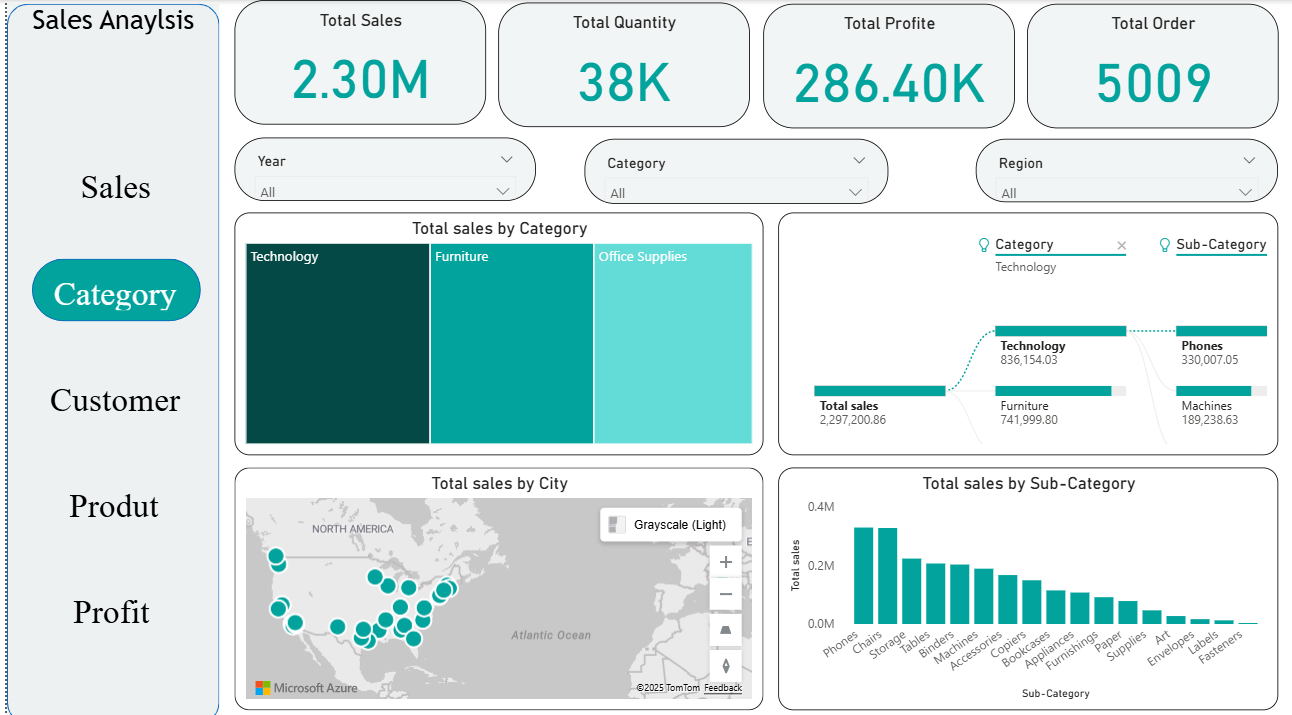

The dashboard page shown, as its layout file describes it:
{"tool":"powerbi","page":{"name":"Category","canvas":[1280,720],"ordinal":2},"visuals":[{"type":"card","title":"Total Sales","fields":{"Values":["DaxMeasure.Total sales"]},"box":[226.4,0,250,124.4],"z":0},{"type":"card","title":"Total Quantity","fields":{"Values":["DaxMeasure.Total Quantity"]},"box":[489.3,2.9,250,124.4],"z":1000},{"type":"card","title":"Total Profite","fields":{"Values":["DaxMeasure.Total Profite"]},"box":[752.2,3.7,250,124.4],"z":2000},{"type":"card","title":"Total Order","fields":{"Values":["DaxMeasure.Total Order"]},"box":[1015.1,3.7,250,124.4],"z":3000},{"type":"shape","box":[0,3.7,211.5,716.5],"z":4000},{"type":"slicer","fields":{"Values":["DateDim.Order Date.Variation.Date Hierarchy.Year"]},"box":[226.4,136.8,299.8,63.4],"z":5000},{"type":"slicer","fields":{"Values":["ProductDim.Category"]},"box":[574.7,138.1,302.3,64.7],"z":6000},{"type":"slicer","fields":{"Values":["CustomerDim.Region"]},"box":[964.1,138.1,301,63.4],"z":7000},{"type":"shape","box":[24.9,257.5,167.9,62.2],"z":8000},{"type":"actionButton","box":[33.6,585.9,140.6,41.1],"z":9000},{"type":"actionButton","box":[41.1,268.7,133.1,39.8],"z":10000},{"type":"actionButton","box":[58.5,163,99.5,39.8],"z":11000},{"type":"actionButton","box":[33.6,374.4,148,39.8],"z":12000},{"type":"actionButton","box":[39.8,480.2,133.1,39.8],"z":13000},{"type":"treemap","fields":{"Group":["ProductDim.Category"],"Values":["DaxMeasure.Total sales"]},"box":[226.4,211.5,526.2,241.3],"z":14000},{"type":"decompositionTreeVisual","fields":{"ExplainBy":["ProductDim.Category Hierarchy.Category","ProductDim.Category Hierarchy.Sub-Category","ProductDim.Category Hierarchy.Product Name"],"Analyze":["DaxMeasure.Total sales"]},"box":[767.5,211.5,497.6,241.3],"z":15000},{"type":"azureMap","fields":{"Category":["CustomerDim.City"],"X":["DaxMeasure.Total sales"]},"box":[226.4,465.2,526.2,241.3],"z":16000},{"type":"columnChart","fields":{"Category":["ProductDim.Sub-Category"],"Y":["DaxMeasure.Total sales"]},"box":[767.5,465.2,497.6,241.3],"z":17000}]}

Visuals, with their boxes in screenshot pixels (x1, y1, x2, y2), scaled from the page's 1280x720 canvas onto the 1292x715 screenshot:
"Total Sales" card: 229,0,481,124
"Total Quantity" card: 494,3,746,126
"Total Profite" card: 759,4,1012,127
"Total Order" card: 1025,4,1277,127
shape: 0,4,213,714
slicer - DateDim.Order Date.Variation.Date Hierarchy.Year: 229,136,531,199
slicer - ProductDim.Category: 580,137,885,201
slicer - CustomerDim.Region: 973,137,1277,200
shape: 25,256,195,317
actionButton: 34,582,176,623
actionButton: 41,267,176,306
actionButton: 59,162,159,201
actionButton: 34,372,183,411
actionButton: 40,477,175,516
treemap - ProductDim.Category x DaxMeasure.Total sales: 229,210,760,450
decompositionTreeVisual - ProductDim.Category Hierarchy.Category x ProductDim.Category Hierarchy.Sub-Category: 775,210,1277,450
azureMap - CustomerDim.City x DaxMeasure.Total sales: 229,462,760,702
columnChart - ProductDim.Sub-Category x DaxMeasure.Total sales: 775,462,1277,702
